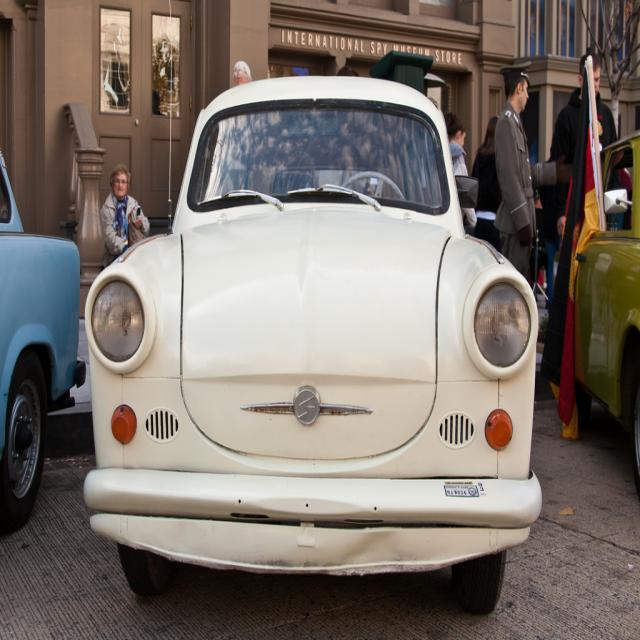car: (82, 75, 543, 616)
